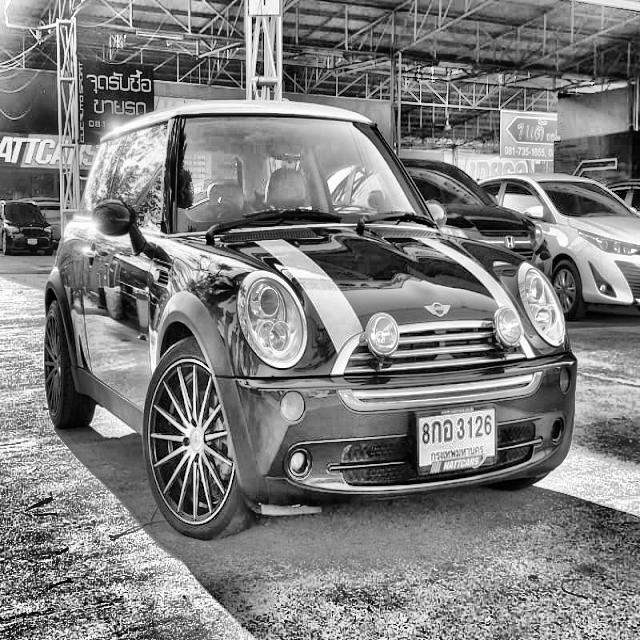license-plate: (409, 398, 501, 483)
